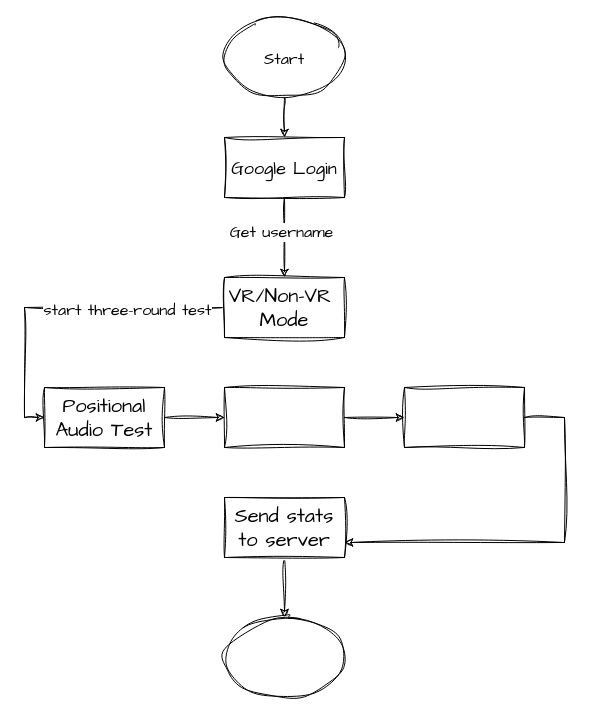
This 590x715 diagram has some shape labels left out. The centre of each missing label's shape, as x and y in pixels:
"Mono Audio Test" goes at (464,417).
"Stereo Audio Test" goes at (284,417).
